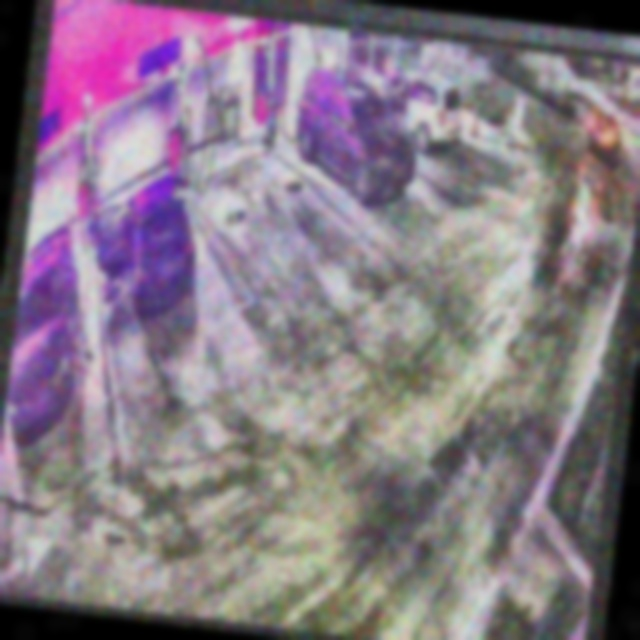Car: (82, 166, 208, 327), (287, 68, 424, 210), (366, 64, 472, 155)
